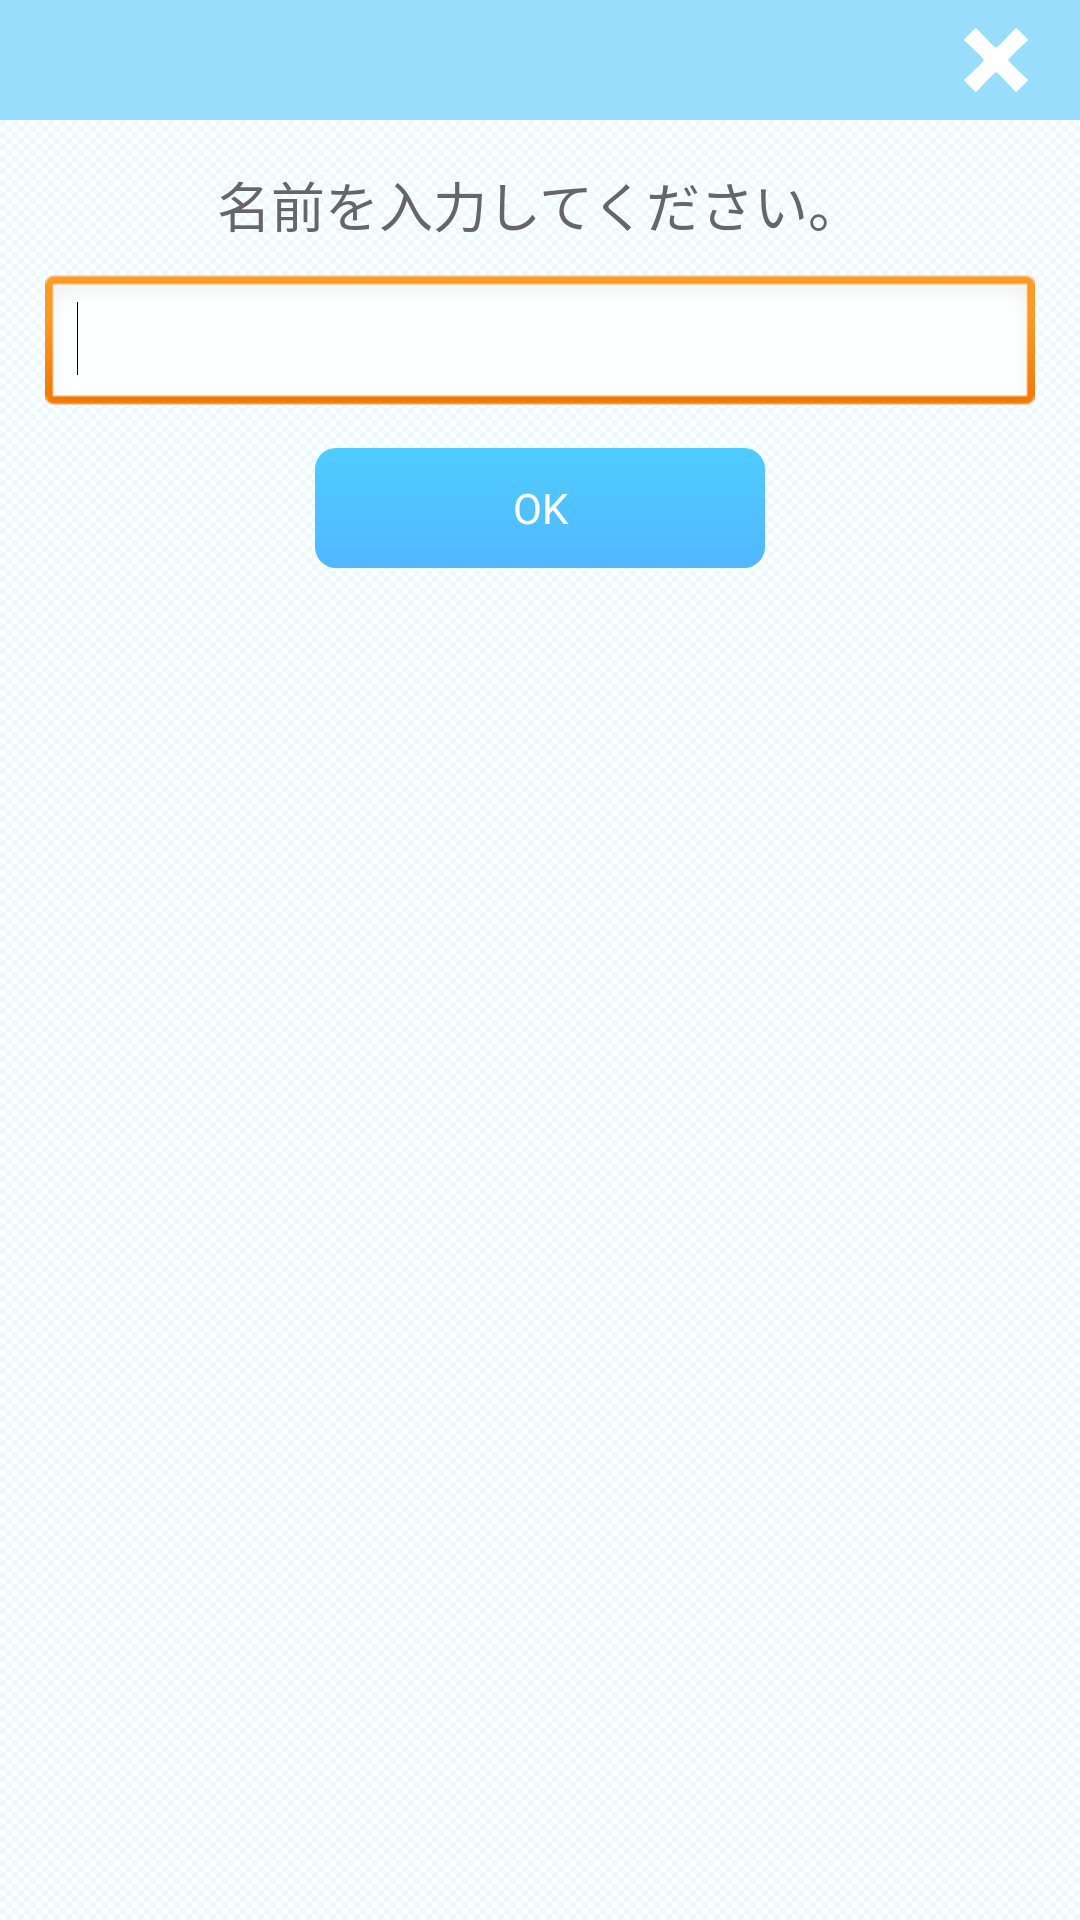

Icons on this 1080 × 1920 Android screen, each with its box as (x1, y1, x2, y2):
close: (964, 28, 1028, 92)
